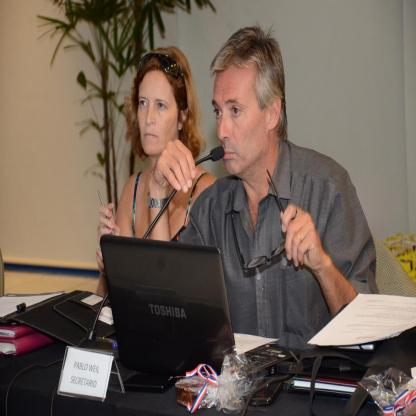board: (98, 228, 277, 378)
